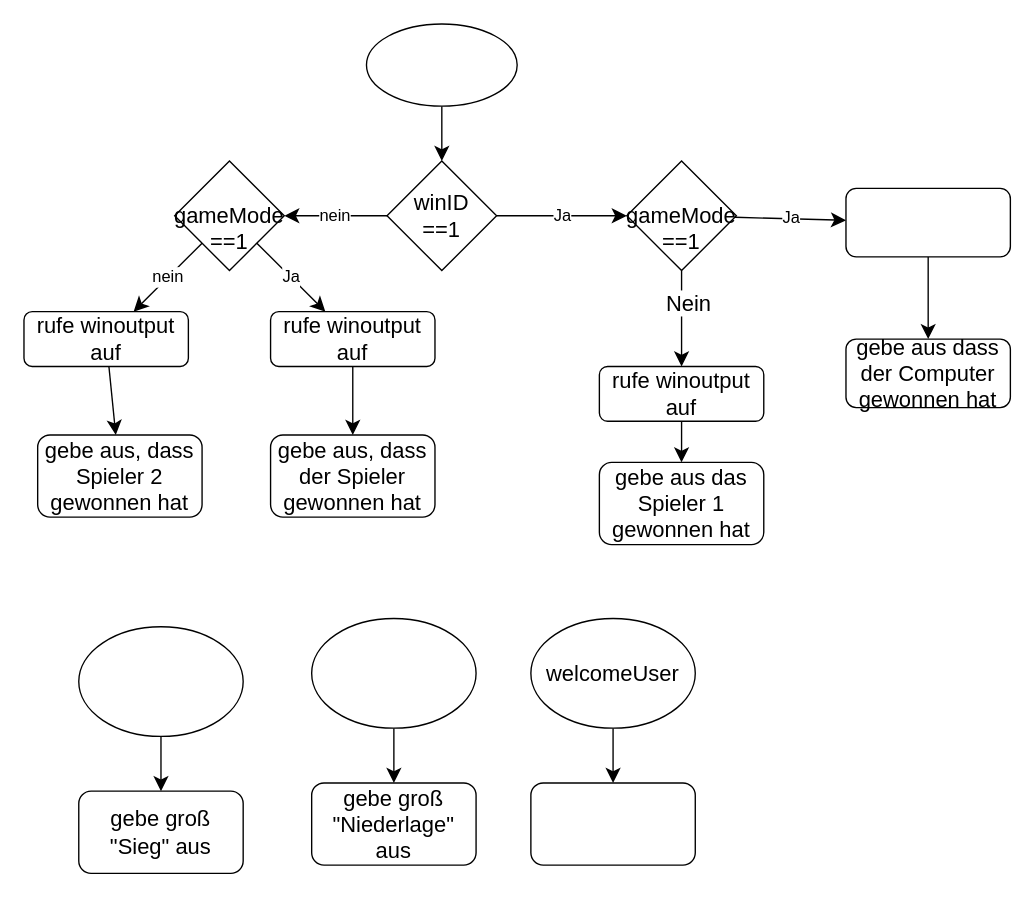
The diagram is 1034 pixels wide and 897 high, and some of its shapes have lost their labels. Each missing label, with the centre of its shape:
battleEnd: point 441,64
gebe groß "Fleet Battle" aus: point 612,823
loseoutpot: point 393,672
rufe loseoutput auf: point 927,222
winoutput: point 160,680
